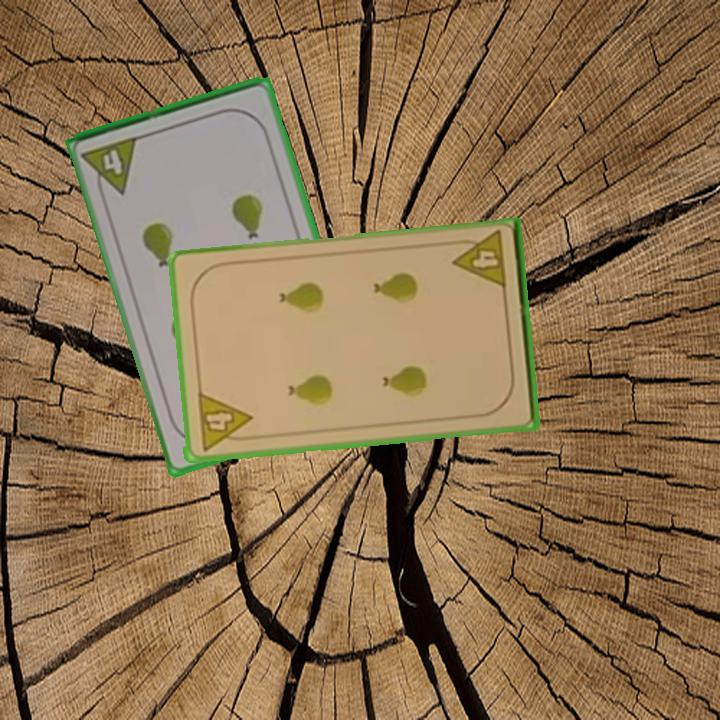4p: (78, 133, 142, 202), (193, 388, 255, 453), (448, 227, 509, 292)
